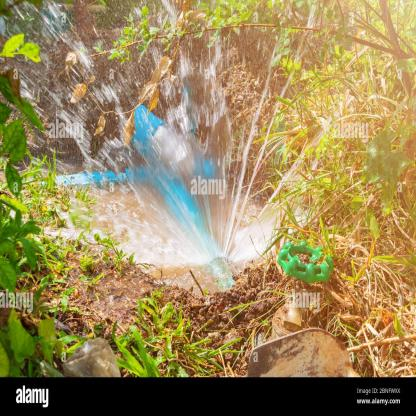PVC: (56, 103, 224, 262), (193, 158, 219, 181)
